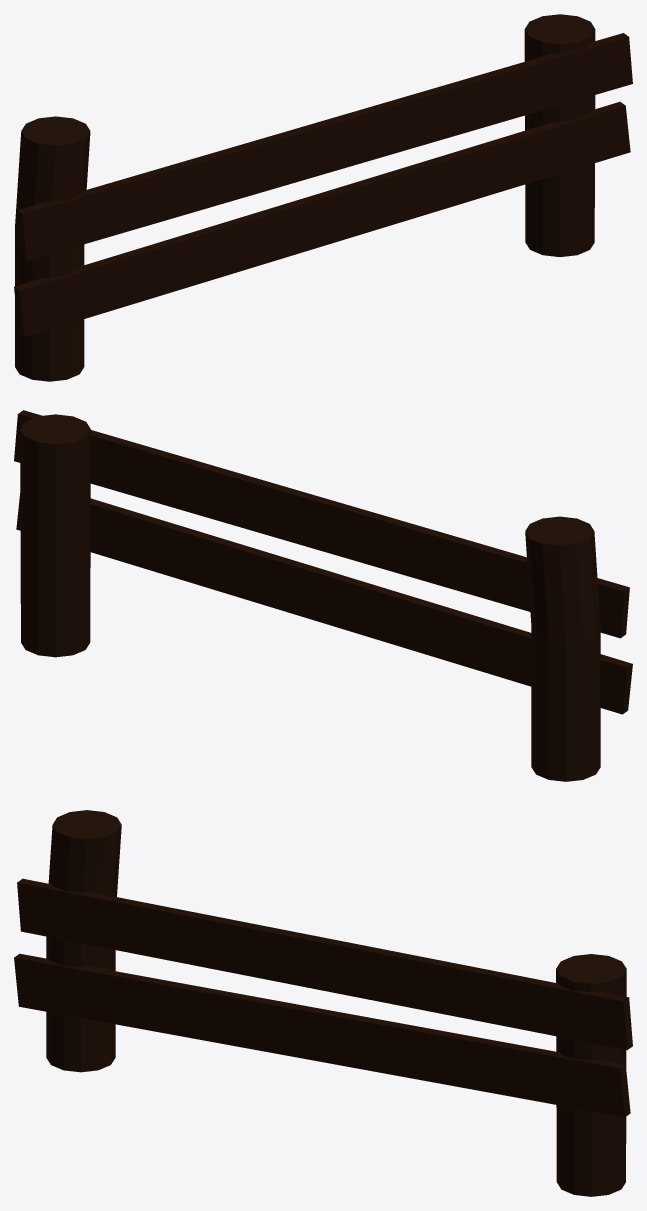
Rendered from Fence Long2.FBX.
3 views of the same model, one above another, from view 1: azimuth 30°, elevation 25°; view 2: azimuth 150°, elevation 25°; view 3: azimuth 330°, elevation 25° (orthographic).
Parts seen in each view (by area): view 1: Box005, Box006, Cylinder003; view 2: Cylinder003, Box005, Box006; view 3: Box006, Box005, Cylinder003.
Part boxes in pixels (left/top/right/bottom): Box005: left=14, top=101, right=630, bottom=337; Box006: left=17, top=33, right=632, bottom=260; Cylinder003: left=15, top=14, right=595, bottom=381; Cylinder003: left=20, top=414, right=600, bottom=781; Box005: left=16, top=493, right=632, bottom=714; Box006: left=14, top=410, right=629, bottom=638; Box006: left=17, top=878, right=632, bottom=1050; Box005: left=14, top=953, right=630, bottom=1117; Cylinder003: left=46, top=810, right=626, bottom=1196.
Bounding box in the file's own units: 54.88 × 20.05 × 5.6.
